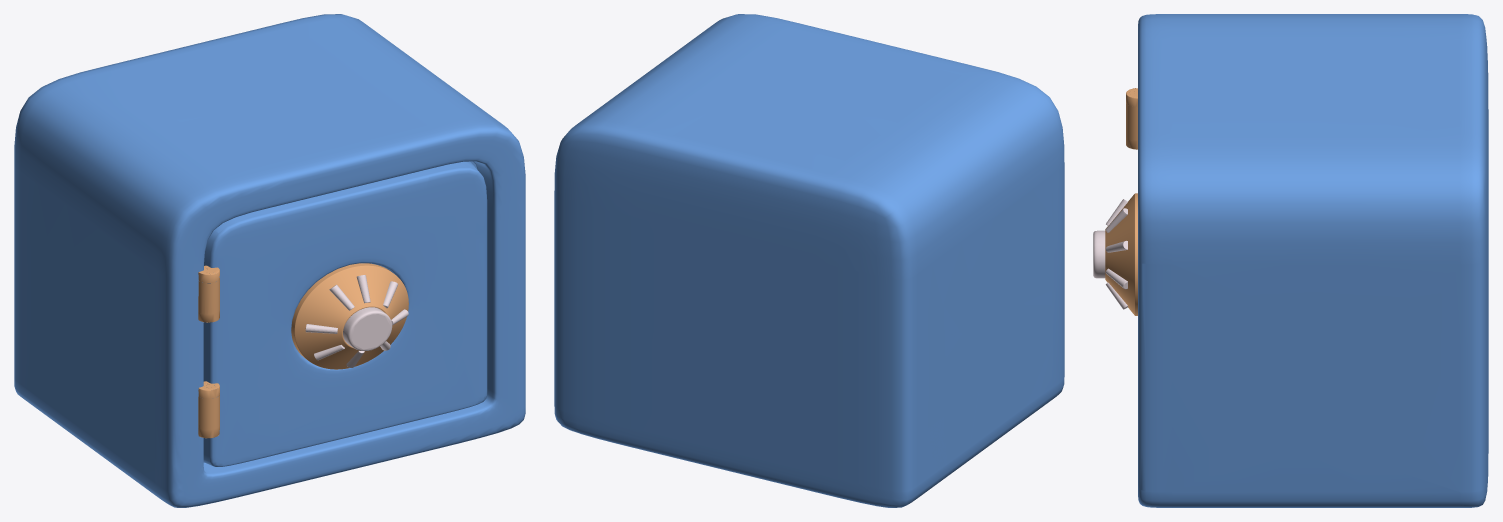
File: safe.fbx
3 renders of one model, left to right at view 1: azimuth 30°, elevation 25°; view 2: azimuth 150°, elevation 25°; view 3: azimuth 270°, elevation 25°, orthographic. The views are drawn at different scales.
Visible parts, largest first — view 1: safe; view 2: safe; view 3: safe.
Part boxes in pixels (bbox=[...]): safe: bbox=[14, 14, 525, 507]; safe: bbox=[554, 14, 1064, 507]; safe: bbox=[1093, 14, 1488, 507].
Bounding box in the file's own units: 108 × 90.32 × 96.31.
